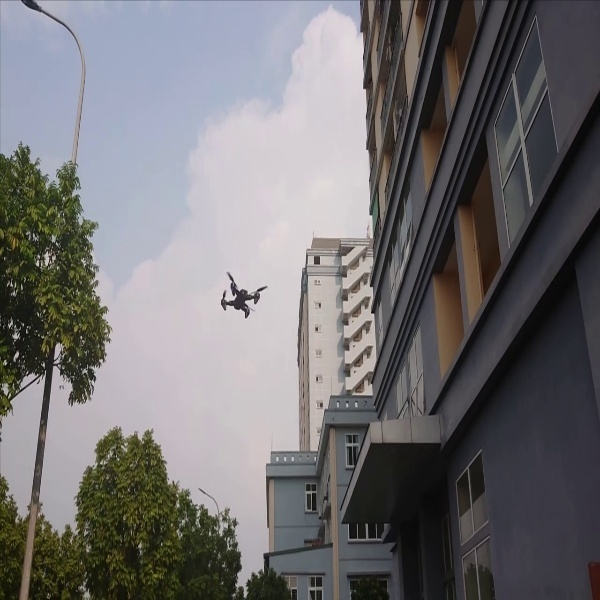drone: (212, 266, 272, 326)
